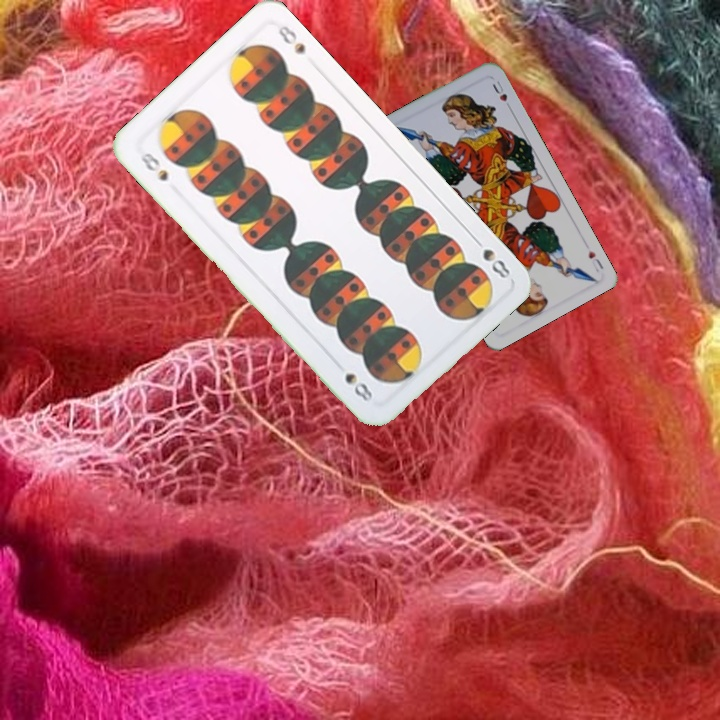HU: (584, 246, 606, 275)
S8: (468, 232, 513, 282), (133, 148, 171, 184)
